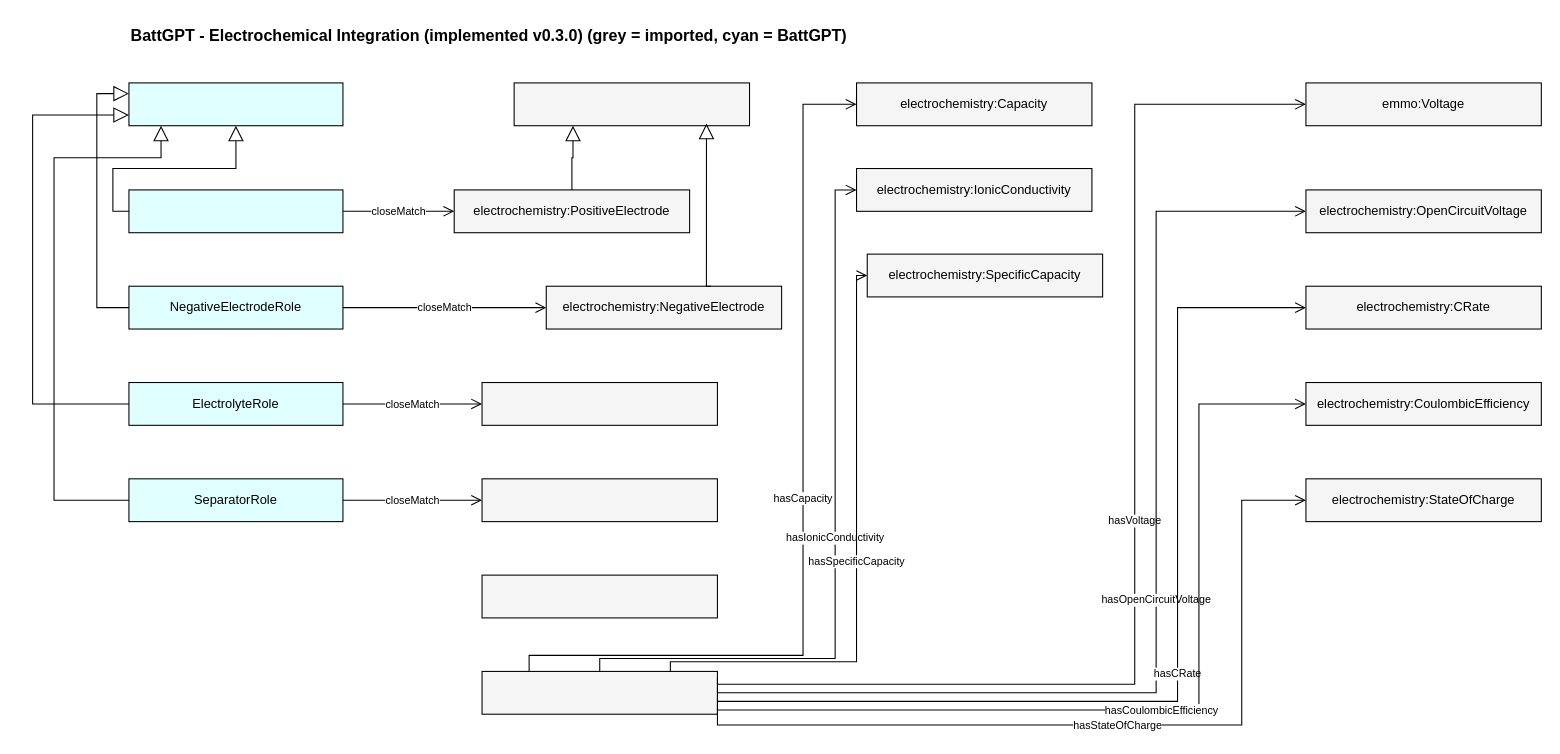
Some shapes in this 1560 by 754 pixel diagram are drawn without their labels. The centre of each missing label's shape, as x and y in pixels:
"battery:BatteryCell" belongs at point 599,692.
"BatteryRole" belongs at point 235,104.
"electrochemistry:ActiveMaterial" belongs at point 599,596.
"electrochemistry:Electrode" belongs at point 631,104.
"electrochemistry:Electrolyte" belongs at point 599,403.
"electrochemistry:Separator" belongs at point 599,500.
"PositiveElectrodeRole" belongs at point 235,211.
